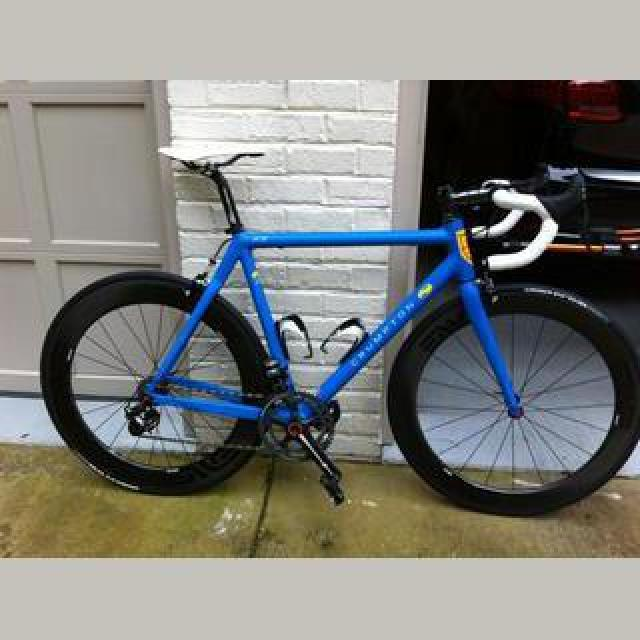Person: (26, 99, 640, 523)
